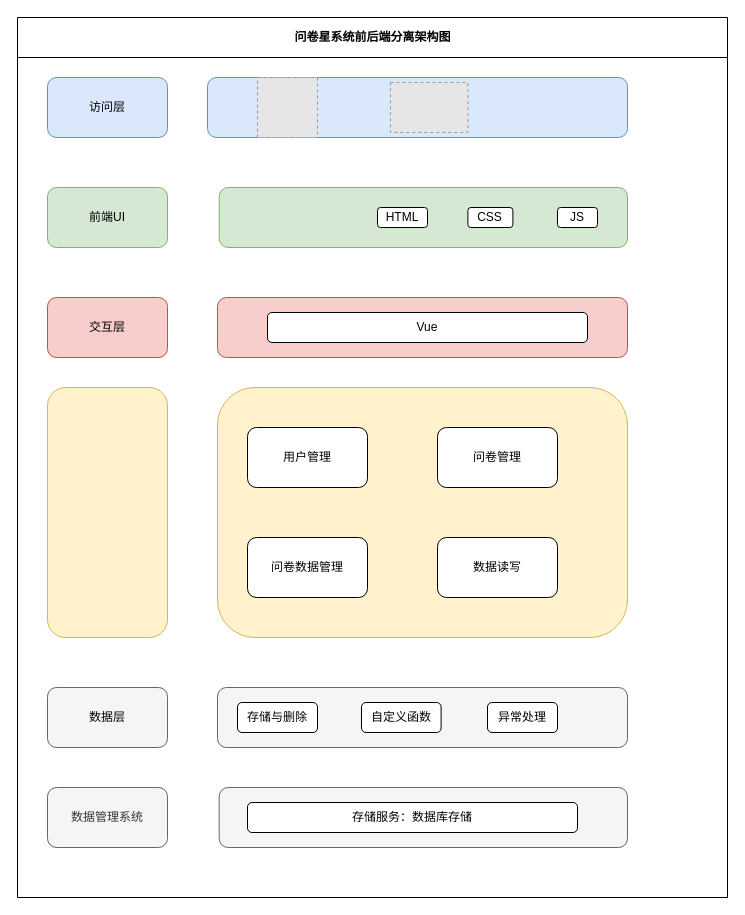
Some shapes in this 745 by 915 pixel diagram are drawn without their labels. Grey dashed boxes stand in for pictures. The shapes that lost their labels are listed below. From the top down, each one's box as (x1, y1, x2, y2) in pixels, then its label:
(206, 76, 628, 138): 移动设备 PC端
(218, 186, 628, 248): WEB
(46, 386, 168, 638): 后端
(216, 386, 628, 638): 服务器
